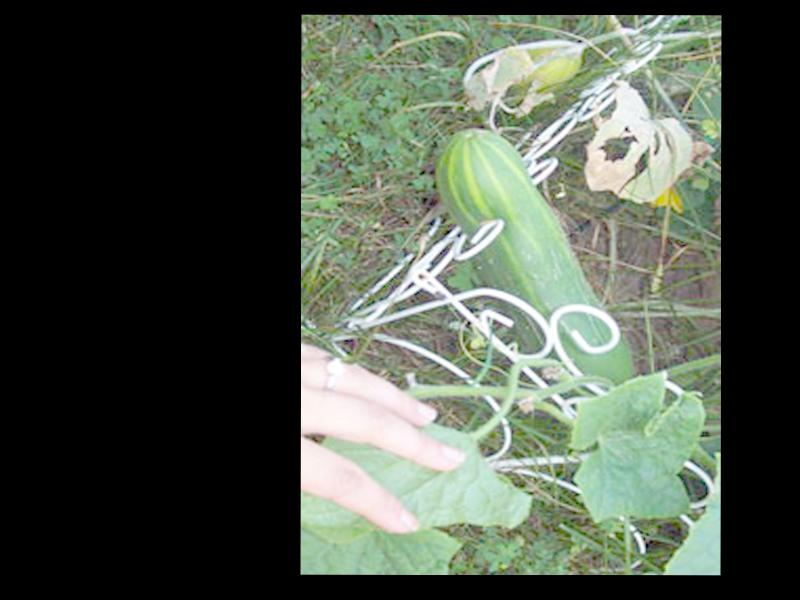Cucumber: (436, 129, 634, 388)
